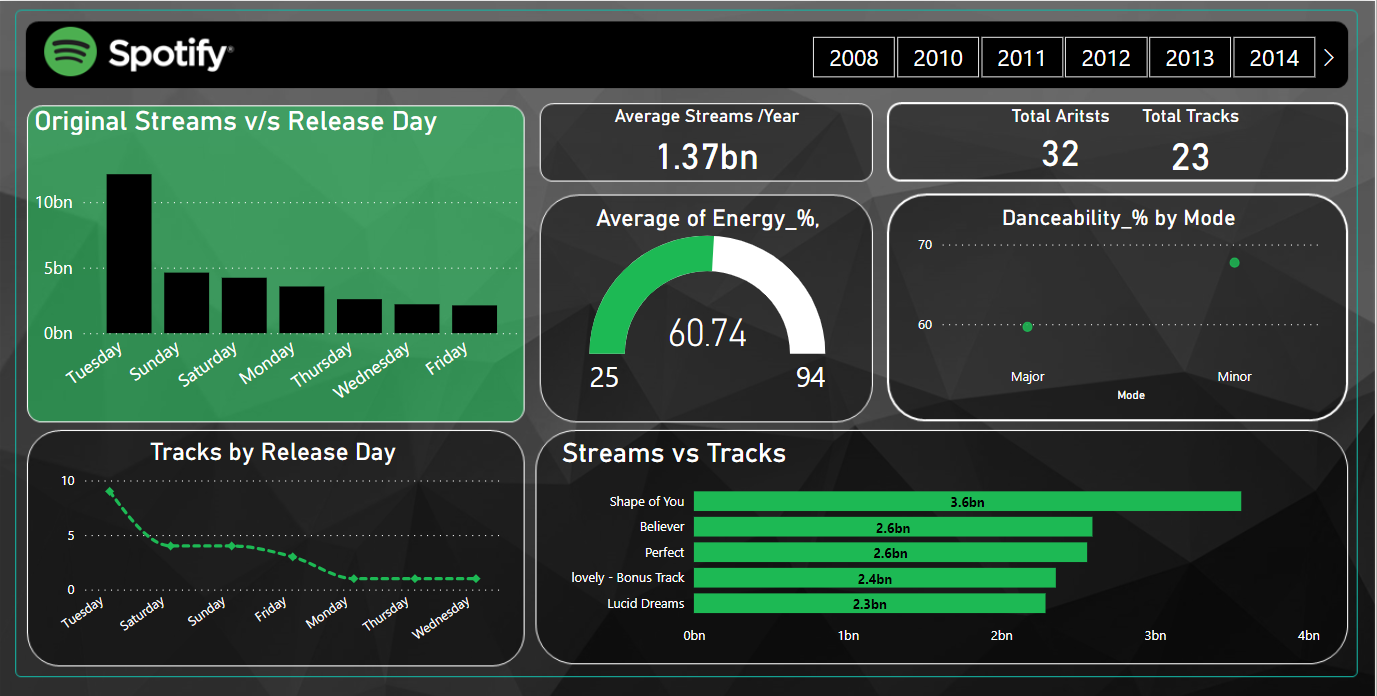

The dashboard page shown, as its layout file describes it:
{"tool":"powerbi","page":{"name":"Page 1","canvas":[1280,720],"ordinal":0},"visuals":[{"type":"barChart","title":"Streams vs Tracks","fields":{"Y":["Sum(spotify-2023. Original_Streams)"],"Category":["spotify-2023.Track_Name"]},"box":[518.3,405.8,715.7,202.9],"z":0},{"type":"columnChart","title":" Original Streams v/s Release Day","fields":{"Category":["spotify-2023.Release_Day"],"Y":["Sum(spotify-2023. Original_Streams)"]},"box":[26.2,96.4,464.1,296.3],"z":1000},{"type":"lineChart","title":"Tracks by Release Day","fields":{"Y":["Count(spotify-2023.Track_Name)"],"Category":["spotify-2023.Release_Day"]},"box":[38.4,405.8,433.3,202.9],"z":2000},{"type":"slicer","title":"M","fields":{"Values":["spotify-2023.Released_Year"]},"box":[724.8,20.2,530.8,55.9],"z":3000},{"type":"scatterChart","title":"Danceability_% by Mode","fields":{"Y":["Avg(spotify-2023.Danceability_%)"],"X":["spotify-2023.Mode"]},"box":[850.3,189.3,383.5,188.1],"z":4000},{"type":"card","title":"Average Streams /Year","fields":{"Values":["Avg(spotify-2023. Original_Streams)"]},"box":[504.1,96.5,307.5,71.2],"z":5000},{"type":"card","title":"Total Aritsts","fields":{"Values":["Sum(spotify-2023.Artist_Count)"]},"box":[703.1,96.5,568,66.3],"z":6000},{"type":"card","title":"Total Tracks","fields":{"Values":["Count(spotify-2023.Track_Name)"]},"box":[937.8,96.4,342.7,71.4],"z":7000},{"type":"gauge","title":"Average of Energy_%,","fields":{"Y":["Avg(spotify-2023.Energy_%)"],"MinValue":["Min(spotify-2023.Energy_%)"],"MaxValue":["Max(spotify-2023.Energy_%)"]},"box":[517.4,189.3,283.4,188.1],"z":8000}]}

Visuals, with their boxes on the page's 1280x720 design canvas (x1, y1, x2, y2). These are canvas units, not pixel positions in the 1377x696 screenshot, which may show the page scaled, cropped or inside an application window:
"Streams vs Tracks" barChart: (x1=518, y1=406, x2=1234, y2=609)
" Original Streams v/s Release Day" columnChart: (x1=26, y1=96, x2=490, y2=393)
"Tracks by Release Day" lineChart: (x1=38, y1=406, x2=472, y2=609)
"M" slicer: (x1=725, y1=20, x2=1256, y2=76)
"Danceability_% by Mode" scatterChart: (x1=850, y1=189, x2=1234, y2=377)
"Average Streams /Year" card: (x1=504, y1=96, x2=812, y2=168)
"Total Aritsts" card: (x1=703, y1=96, x2=1271, y2=163)
"Total Tracks" card: (x1=938, y1=96, x2=1280, y2=168)
"Average of Energy_%," gauge: (x1=517, y1=189, x2=801, y2=377)
